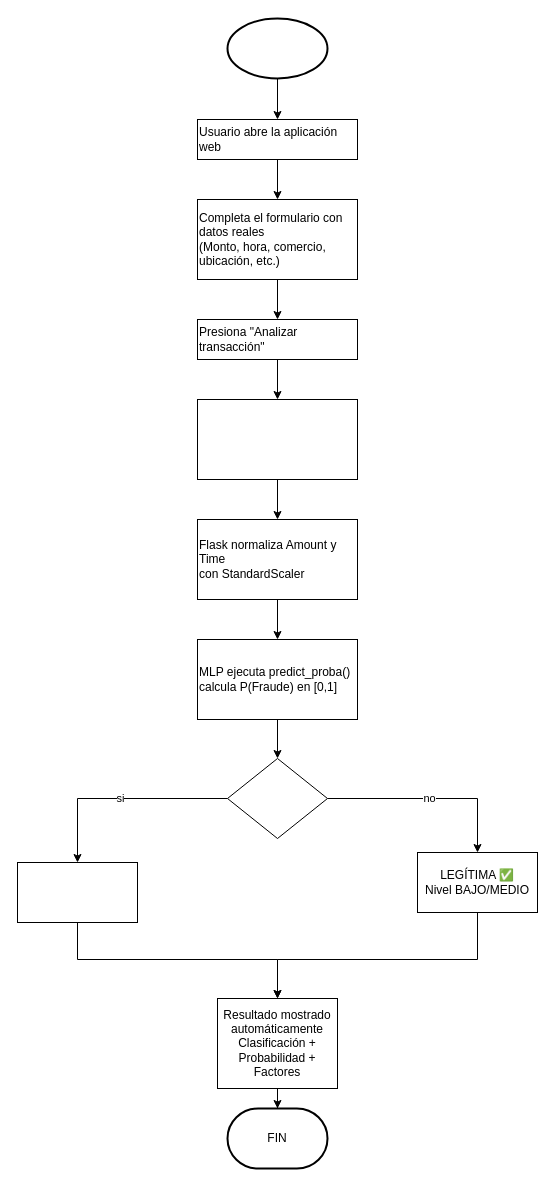
Image size: 555x1186. Some labels were removed from this diagram. Here are the shapes that lost their labels. From the top down, the centre of each, then its label:
At (x=277, y=48): "INICIO".
At (x=277, y=439): "JavaScript envía HTTP POST /predict con datos en formato JSON".
At (x=277, y=798): "¿P(Fraude) > 0.5?".
At (x=77, y=892): "FRAUDULENTA 🚨 Nivel ALTO/CRÍTICO".
